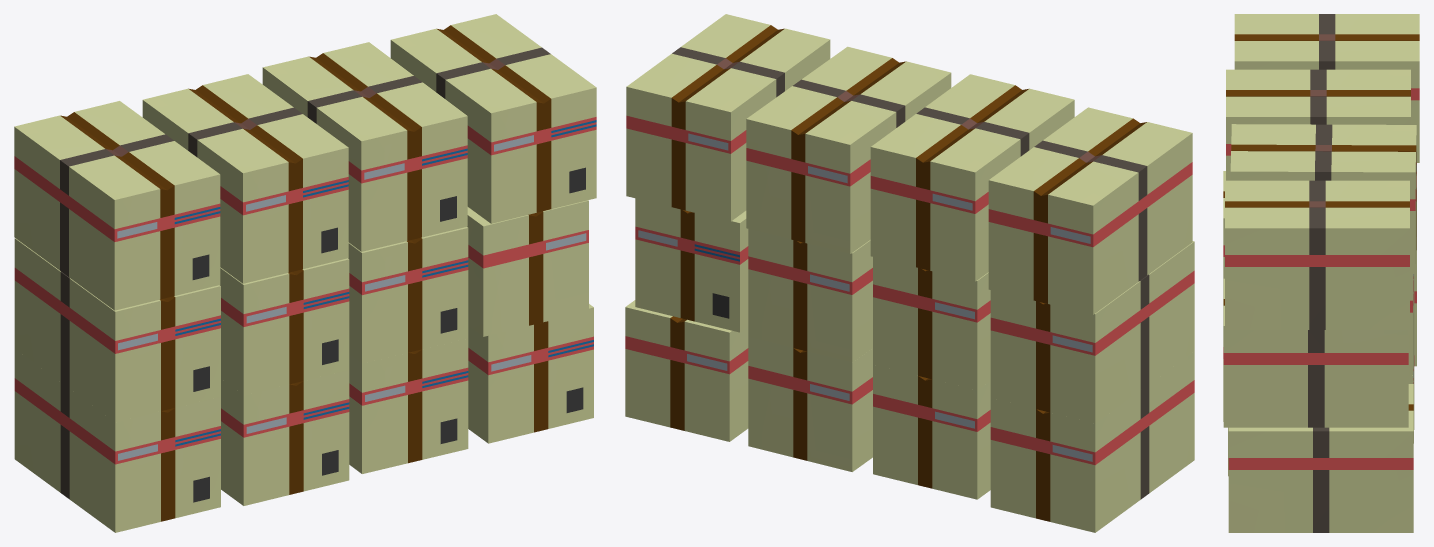
The model's file is SM_BoxesSet_C.fbx.
3 views of the same model, side by side, from view 1: azimuth 30°, elevation 25°; view 2: azimuth 150°, elevation 25°; view 3: azimuth 270°, elevation 25° (orthographic). The views are drawn at different scales.
Parts seen in each view (by area): view 1: SM_BoxesSet_C; view 2: SM_BoxesSet_C; view 3: SM_BoxesSet_C.
Part boxes in pixels (box(x1,y1,x2,y2)): SM_BoxesSet_C: box(14, 14, 596, 532); SM_BoxesSet_C: box(625, 14, 1194, 532); SM_BoxesSet_C: box(1223, 14, 1419, 532).
Bounding box in the file's own units: 278 × 185 × 108.
